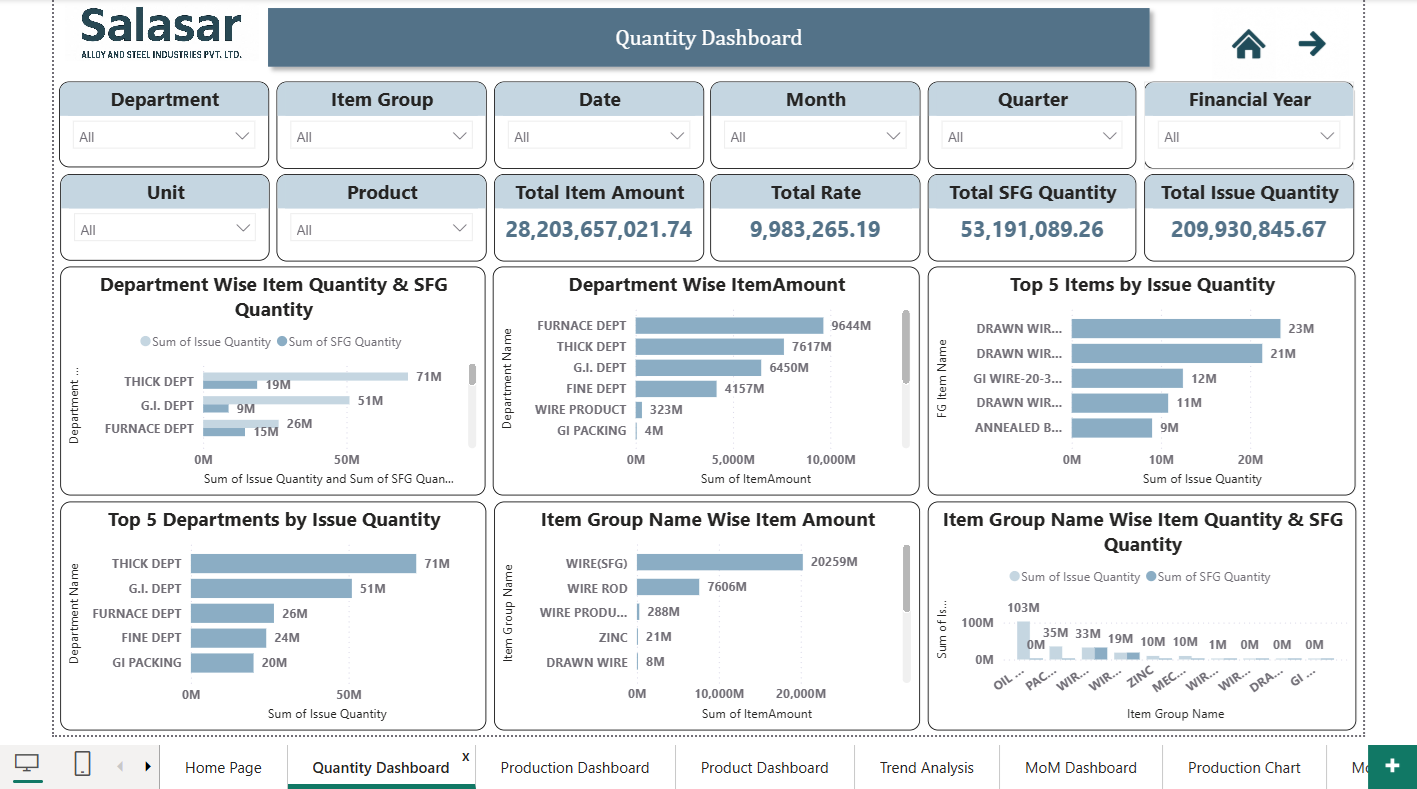

Layout of this report page (visuals, bound fields, positions):
{"tool":"powerbi","page":{"name":"Quantity Dashboard","canvas":[1280,720],"ordinal":1},"visuals":[{"type":"image","box":[1128.8,3.8,80,80],"z":0,"group":"g1"},{"type":"clusteredBarChart","title":"Department Wise Item Quantity & SFG Quantity","fields":{"Category":["Sheet 1.Department Name"],"Y":["Sum(Sheet 1.Issue Quantity)","Sum(Sheet 1.SFG Quantity)"]},"box":[6,261.5,416.2,224],"z":0},{"type":"barChart","title":"Department Wise ItemAmount","fields":{"Y":["Sum(Sheet 1.ItemAmount)"],"Category":["Sheet 1.Department Name"]},"box":[429.8,261.5,417.5,224],"z":1000},{"type":"image","box":[1191.3,3.8,80,80],"z":2000,"group":"g1"},{"type":"barChart","title":"Top 5 Items by Issue Quantity","fields":{"Y":["Sum(Sheet 1.Issue Quantity)"],"Category":["Sheet 1.FG Item Name"]},"box":[854.8,261.5,418.8,224],"z":2000},{"type":"barChart","title":"Top 5 Departments by Issue Quantity","fields":{"Category":["Sheet 1.Department Name"],"Y":["Sum(Sheet 1.Issue Quantity)"]},"box":[6.1,491.6,417,224],"z":3000},{"type":"barChart","title":"Item Group Name Wise Item Amount ","fields":{"Y":["Sum(Sheet 1.ItemAmount)"],"Category":["Sheet 1.Item Group Name"]},"box":[430.4,491.6,417,223.8],"z":4000},{"type":"clusteredColumnChart","title":"Item Group Name Wise Item Quantity & SFG Quantity","fields":{"Category":["Sheet 1.Item Group Name"],"Y":["Sum(Sheet 1.Issue Quantity)","Sum(Sheet 1.SFG Quantity)"]},"box":[854.8,491.6,419.4,223.8],"z":5000},{"type":"slicer","title":"Department","fields":{"Values":["Sheet 1.Department Name"]},"box":[4.9,80.9,205.4,84.4],"z":6000},{"type":"slicer","title":"Item Group","fields":{"Values":["Sheet 1.Item Group Name"]},"box":[217.4,80.9,205.4,85.6],"z":7000},{"type":"slicer","title":"Date","fields":{"Values":["Sheet 1.Doc Date"]},"box":[429.9,80.9,205.4,85.6],"z":8000},{"type":"slicer","title":"Month","fields":{"Values":["Calendar.Month"]},"box":[642.5,80.9,205.4,85.6],"z":9000},{"type":"slicer","title":"Quarter","fields":{"Values":["Calendar.Qtr"]},"box":[854.8,80.7,204.2,85.6],"z":10000},{"type":"slicer","title":"Financial Year","fields":{"Values":["Calendar.Fiscal Year"]},"box":[1066.3,80.7,205.4,85.6],"z":11000},{"type":"slicer","title":"Unit","fields":{"Values":["Sheet 1.unit"]},"box":[6.1,171,205,85],"z":12000},{"type":"card","title":"Total Item Amount ","fields":{"Values":["Sum(Sheet 1.ItemAmount)"]},"box":[430.4,171,205.4,85.6],"z":13000},{"type":"card","title":"Total Rate","fields":{"Values":["Sum(Sheet 1.Rate)"]},"box":[642,171,205.4,85.6],"z":14000},{"type":"card","title":"Total SFG Quantity","fields":{"Values":["Sum(Sheet 1.SFG Quantity)"]},"box":[854.8,171,204.2,85.6],"z":15000},{"type":"card","title":"Total Issue Quantity","fields":{"Values":["Sum(Sheet 1.Issue Quantity)"]},"box":[1066.3,171,205.4,85.6],"z":16000},{"type":"slicer","title":"Product","fields":{"Values":["Sheet 1.Product Name"]},"box":[217.7,171,205.4,85.6],"z":17000},{"type":"shape","box":[200,0,880,75],"z":18000},{"type":"image","box":[6.1,0,199.3,66],"z":19000},{"type":"group","id":"g1","title":"Group 1","box":[1128.8,3.8,142.5,80],"z":20000}]}

Visuals, with their boxes on the page's 1280x720 design canvas (x1, y1, x2, y2). These are canvas units, not pixel positions in the 1417x789 screenshot, which may show the page scaled, cropped or inside an application window:
image: {"x1": 1129, "y1": 4, "x2": 1209, "y2": 84}
"Department Wise Item Quantity & SFG Quantity" clusteredBarChart: {"x1": 6, "y1": 262, "x2": 422, "y2": 486}
"Department Wise ItemAmount" barChart: {"x1": 430, "y1": 262, "x2": 847, "y2": 486}
image: {"x1": 1191, "y1": 4, "x2": 1271, "y2": 84}
"Top 5 Items by Issue Quantity" barChart: {"x1": 855, "y1": 262, "x2": 1274, "y2": 486}
"Top 5 Departments by Issue Quantity" barChart: {"x1": 6, "y1": 492, "x2": 423, "y2": 716}
"Item Group Name Wise Item Amount " barChart: {"x1": 430, "y1": 492, "x2": 847, "y2": 715}
"Item Group Name Wise Item Quantity & SFG Quantity" clusteredColumnChart: {"x1": 855, "y1": 492, "x2": 1274, "y2": 715}
"Department" slicer: {"x1": 5, "y1": 81, "x2": 210, "y2": 165}
"Item Group" slicer: {"x1": 217, "y1": 81, "x2": 423, "y2": 166}
"Date" slicer: {"x1": 430, "y1": 81, "x2": 635, "y2": 166}
"Month" slicer: {"x1": 642, "y1": 81, "x2": 848, "y2": 166}
"Quarter" slicer: {"x1": 855, "y1": 81, "x2": 1059, "y2": 166}
"Financial Year" slicer: {"x1": 1066, "y1": 81, "x2": 1272, "y2": 166}
"Unit" slicer: {"x1": 6, "y1": 171, "x2": 211, "y2": 256}
"Total Item Amount " card: {"x1": 430, "y1": 171, "x2": 636, "y2": 257}
"Total Rate" card: {"x1": 642, "y1": 171, "x2": 847, "y2": 257}
"Total SFG Quantity" card: {"x1": 855, "y1": 171, "x2": 1059, "y2": 257}
"Total Issue Quantity" card: {"x1": 1066, "y1": 171, "x2": 1272, "y2": 257}
"Product" slicer: {"x1": 218, "y1": 171, "x2": 423, "y2": 257}
shape: {"x1": 200, "y1": 0, "x2": 1080, "y2": 75}
image: {"x1": 6, "y1": 0, "x2": 205, "y2": 66}
"Group 1" group: {"x1": 1129, "y1": 4, "x2": 1271, "y2": 84}
